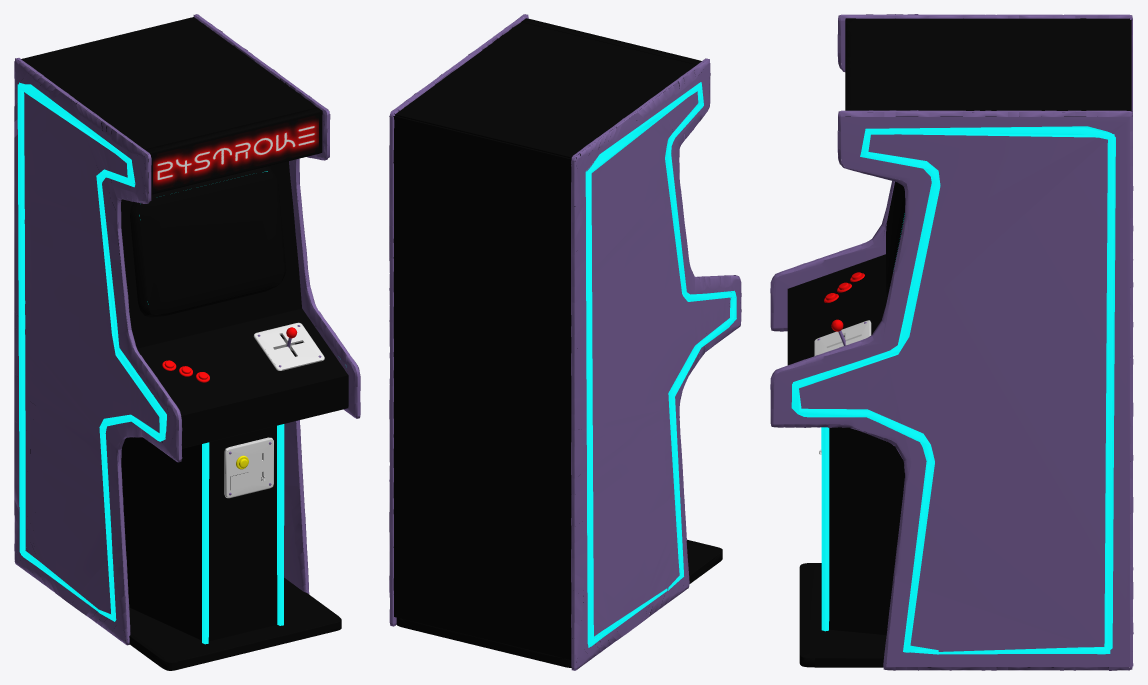
File: Arcade-reduced-2.glb
3 renders of one model, left to right at view 1: azimuth 30°, elevation 25°; view 2: azimuth 150°, elevation 25°; view 3: azimuth 270°, elevation 25°, orthographic. The views are drawn at different scales.
Parts seen in each view (by area): view 1: Left_side, Top_plain, object 1, object 21, object 14, object 26, Left_side_neon, Right_side.001, object 27, object 33, object 30, object 25 (+5 smaller); view 2: object 34, Left_side, Top_plain, Left_side_neon, Right_side.001, object 33, object 31; view 3: Right_side.001, Top_plain, Right_side_neon, object 22, object 26, Left_side, object 33, object 13, object 1, object 31, object 20.
Boxes of the visible parts, left/top/right/bottom form: Left_side: left=14, top=58, right=182, bottom=645; Top_plain: left=18, top=17, right=317, bottom=156; object 1: left=130, top=166, right=286, bottom=317; object 21: left=30, top=437, right=201, bottom=640; object 14: left=208, top=425, right=277, bottom=641; object 26: left=137, top=308, right=348, bottom=415; Left_side_neon: left=17, top=82, right=166, bottom=621; Right_side.001: left=193, top=14, right=360, bottom=594; object 27: left=111, top=161, right=301, bottom=348; object 33: left=96, top=577, right=341, bottom=670; object 30: left=153, top=114, right=318, bottom=191; object 25: left=181, top=375, right=348, bottom=448; object 34: left=393, top=115, right=577, bottom=659; Left_side: left=571, top=58, right=741, bottom=670; Top_plain: left=394, top=22, right=701, bottom=161; Left_side_neon: left=585, top=82, right=736, bottom=647; Right_side.001: left=389, top=14, right=528, bottom=626; object 33: left=396, top=539, right=722, bottom=667; object 31: left=521, top=18, right=701, bottom=64; Right_side.001: left=770, top=110, right=1133, bottom=670; Top_plain: left=856, top=18, right=1129, bottom=116; Right_side_neon: left=791, top=126, right=1115, bottom=654; object 22: left=829, top=427, right=904, bottom=634; object 26: left=788, top=254, right=887, bottom=365; Left_side: left=770, top=14, right=1133, bottom=569; object 33: left=799, top=563, right=1108, bottom=667; object 13: left=821, top=427, right=829, bottom=631; object 1: left=886, top=181, right=905, bottom=297; object 31: left=845, top=18, right=856, bottom=116; object 20: left=814, top=320, right=871, bottom=356.
Size of the model in its own units: 65.33 by 161 by 94.87.
Materials: 9 (1 with a texture image).
